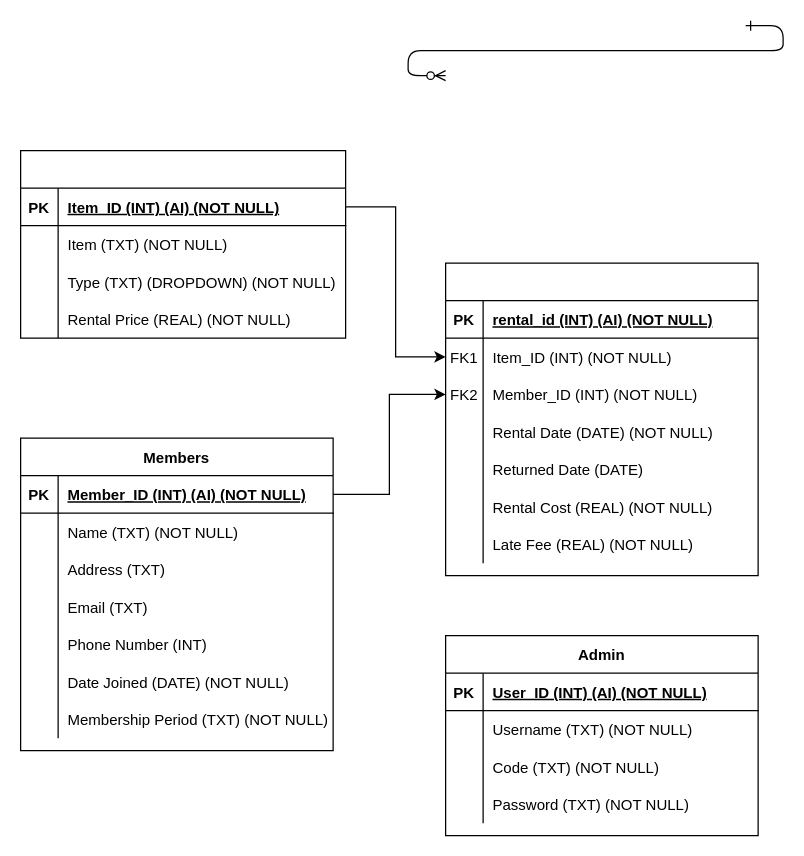
The diagram is 804 pixels wide and 856 high, and some of its shapes have lost their labels. Here are the shapes that lost their labels. From the top down, the box of each, then its label:
(19, 149, 346, 338): Items
(444, 262, 758, 576): Rentals
